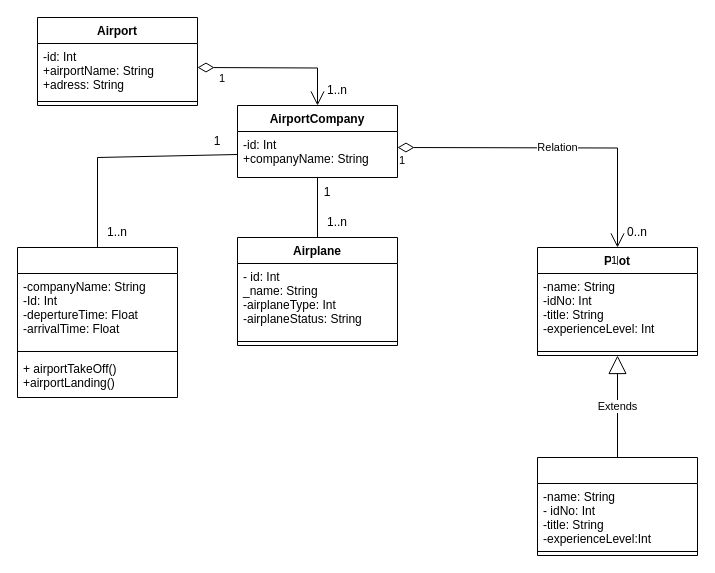
The diagram is 715 pixels wide and 573 high, and some of its shapes have lost their labels. Here are the shapes that lost their labels. From the top down, the box of each, then its label:
(16, 246, 178, 398): Flight
(536, 456, 698, 556): CO Pilot
